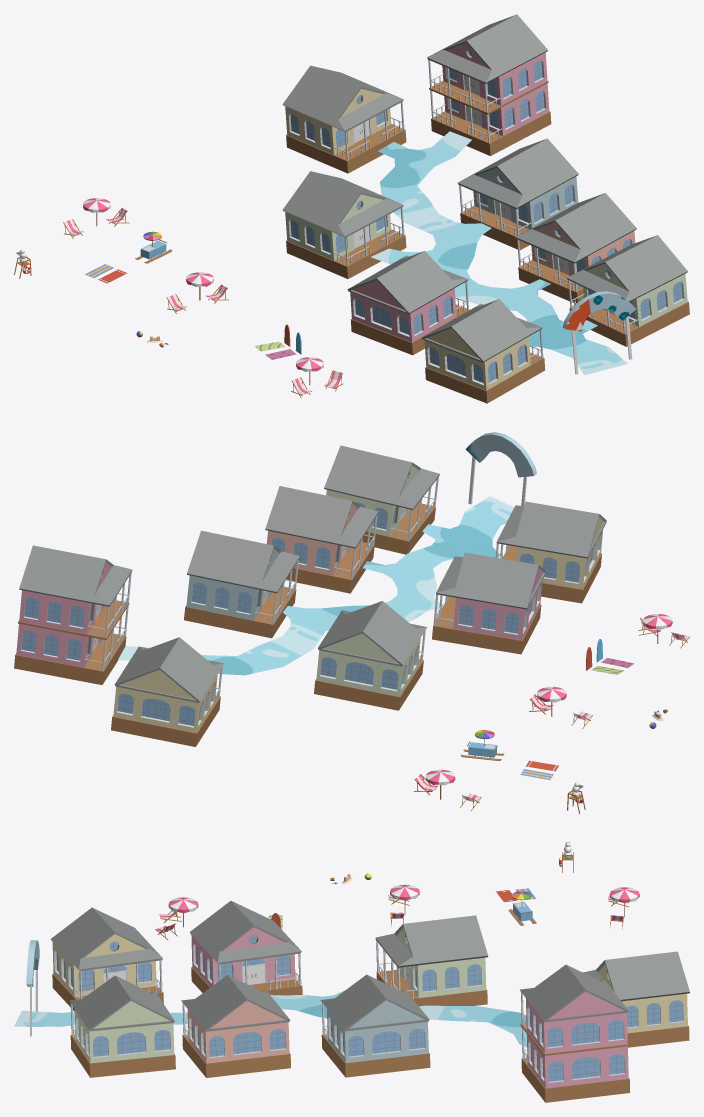
The model's file is Neighborhood_BowlcutBeach_02.fbx.
3 renders of one model, top to bottom at view 1: azimuth 30°, elevation 25°; view 2: azimuth 150°, elevation 25°; view 3: azimuth 270°, elevation 25°, orthographic. The views are drawn at different scales.
Parts seen in each view (by area): view 1: Building_Mansion2Story, Object_BowlCutRoad, Building_Mansion1Story8, Building_Mansion1Story9, Building_Mansion1Story5, Building_Mansion1Story10, Building_Mansion1Story7, Building_Mansion1Story12, Building_Mansion1Story11, polySurface132, Object_Cart; view 2: Building_Mansion2Story, Object_BowlCutRoad, Building_Mansion1Story10, Building_Mansion1Story9, Building_Mansion1Story8, Building_Mansion1Story7, Building_Mansion1Story11, Building_Mansion1Story12, Building_Mansion1Story5, polySurface132, Object_Cart; view 3: Building_Mansion2Story, Building_Mansion1Story10, Building_Mansion1Story11, Building_Mansion1Story12, Building_Mansion1Story9, Building_Mansion1Story7, Building_Mansion1Story5, Building_Mansion1Story8, Object_BowlCutRoad, Object_Cart, polySurface132, Object_Umbrella1 (+2 smaller).
Boxes of the visible parts, box(x1,y1,x2,y2) form: Building_Mansion2Story: box(427, 14, 551, 155); Object_BowlCutRoad: box(371, 131, 627, 375); Building_Mansion1Story8: box(282, 65, 406, 173); Building_Mansion1Story9: box(282, 171, 406, 278); Building_Mansion1Story5: box(422, 299, 545, 403); Building_Mansion1Story10: box(458, 138, 578, 250); Building_Mansion1Story7: box(347, 251, 469, 355); Building_Mansion1Story12: box(567, 235, 689, 346); Building_Mansion1Story11: box(516, 193, 636, 303); polySurface132: box(562, 291, 635, 331); Object_Cart: box(135, 231, 171, 263); Building_Mansion2Story: box(14, 545, 132, 684); Object_BowlCutRoad: box(118, 496, 514, 675); Building_Mansion1Story10: box(184, 530, 299, 638); Building_Mansion1Story9: box(314, 601, 427, 710); Building_Mansion1Story8: box(111, 637, 224, 746); Building_Mansion1Story7: box(432, 552, 545, 654); Building_Mansion1Story11: box(265, 486, 378, 593); Building_Mansion1Story12: box(324, 445, 439, 554); Building_Mansion1Story5: box(495, 501, 606, 603); polySurface132: box(465, 432, 536, 477); Object_Cart: box(460, 730, 504, 760); Building_Mansion2Story: box(520, 964, 630, 1102); Building_Mansion1Story10: box(320, 974, 430, 1077); Building_Mansion1Story11: box(181, 975, 290, 1077); Building_Mansion1Story12: box(69, 975, 175, 1077); Building_Mansion1Story9: box(375, 915, 488, 1006); Building_Mansion1Story7: box(189, 901, 302, 995); Building_Mansion1Story5: box(51, 907, 163, 1011); Building_Mansion1Story8: box(583, 951, 689, 1047); Object_BowlCutRoad: box(14, 990, 527, 1047); Object_Cart: box(508, 891, 536, 925); polySurface132: box(26, 940, 39, 986); Object_Umbrella1: box(390, 884, 419, 914).
Size of the model in its own units: 4537 by 1129 by 4797.
